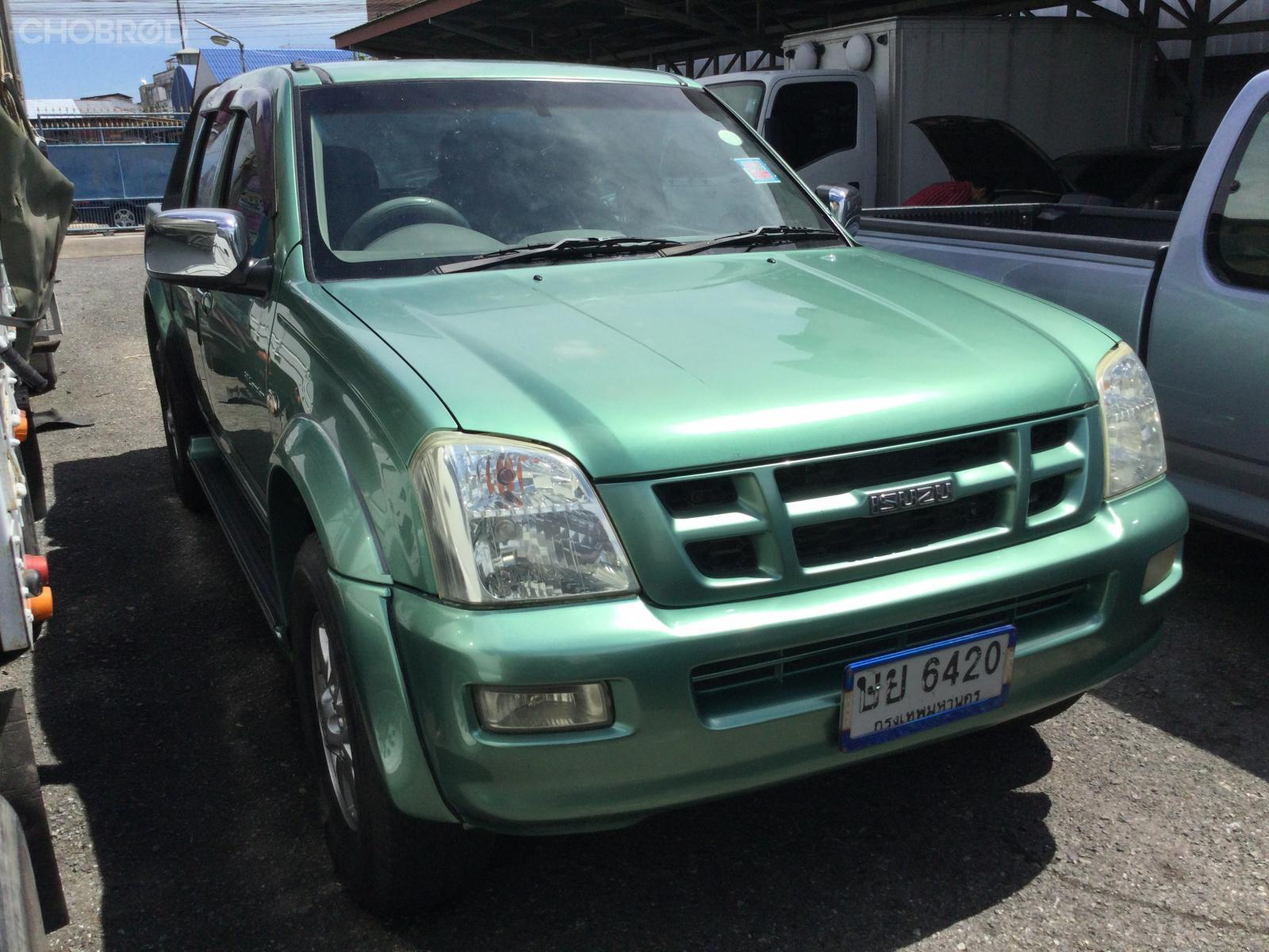license-plate: (823, 616, 1031, 762)
